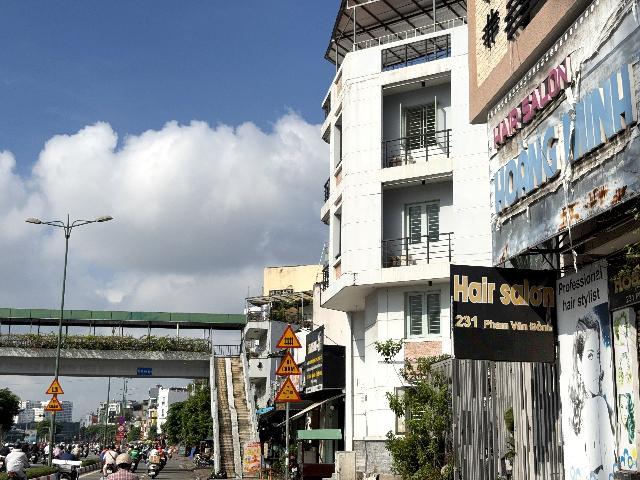chieu-cao-tinh-khong-thuc-te: (274, 377, 302, 402)
di-cham: (275, 351, 302, 375), (44, 394, 63, 411)
noi-giao-nhau-voi-duong-sat-co-rao-chan: (275, 324, 302, 348), (45, 378, 64, 395)
